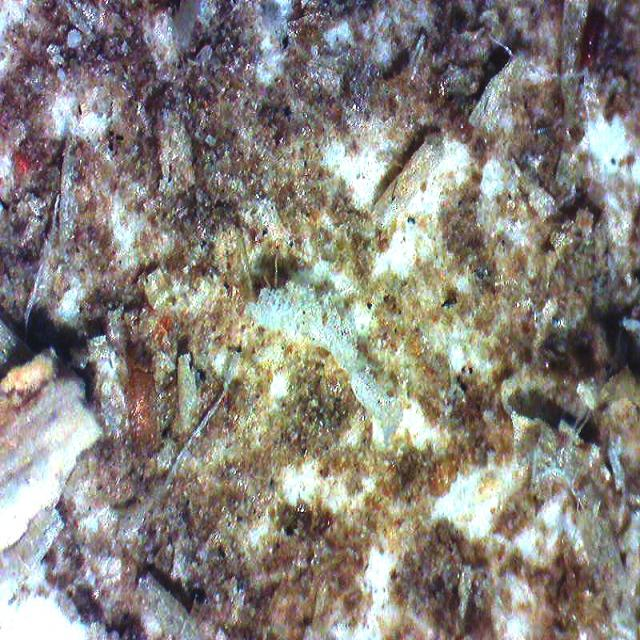microplastic: (243, 258, 433, 443)
